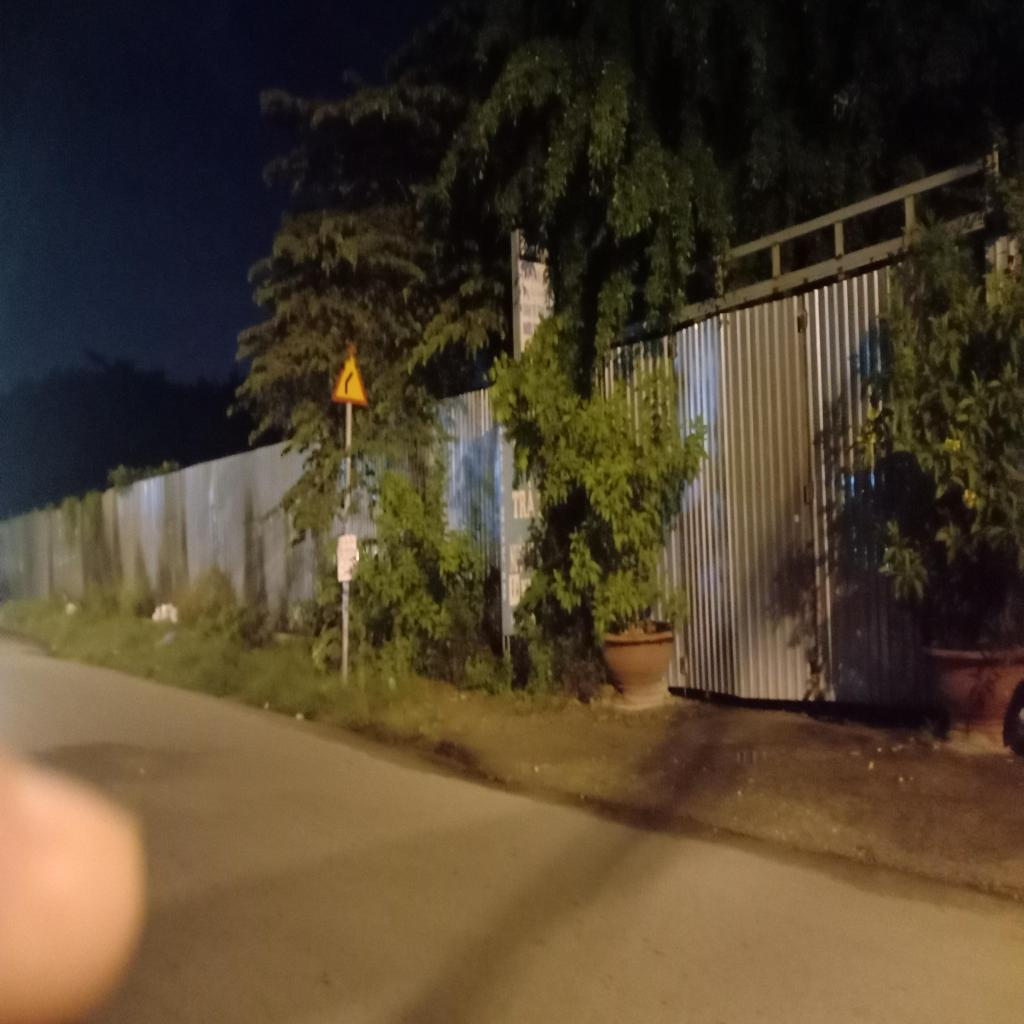cho_ngoat_nguy_hiem_ben_phai: (330, 338, 370, 410)
